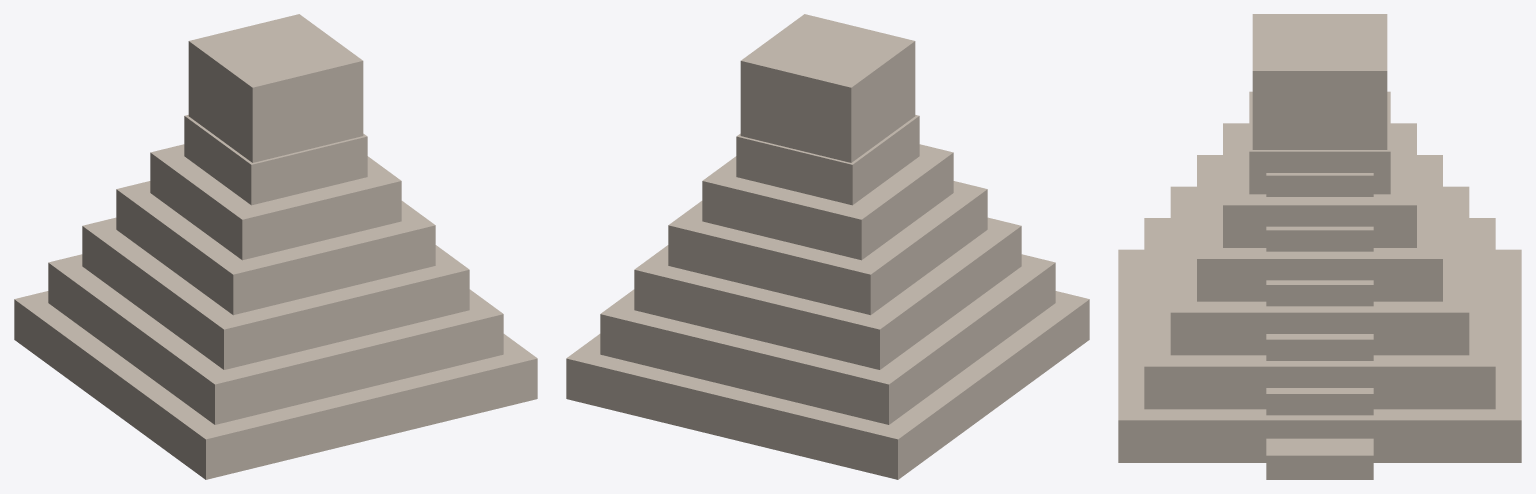
File: mesoamerican_s4.glb
3 renders of one model, left to right at view 1: azimuth 30°, elevation 25°; view 2: azimuth 150°, elevation 25°; view 3: azimuth 270°, elevation 25°, orthographic. The views are drawn at different scales.
Parts seen in each view (by area): view 1: Cube, Cube.001, Cube.002, Cube.006, Cube.003, Cube.004, Cube.005; view 2: Cube, Cube.001, Cube.002, Cube.006, Cube.003, Cube.004, Cube.005; view 3: Cube, Cube.001, Cube.002, Cube.006, Cube.003, Cube.004, Cube.007, Cube.005, Cube.009, Cube.010, Cube.011, Cube.012 (+1 smaller).
Part boxes in pixels (box(x1,y1,x2,y2)): Cube: box(14, 291, 537, 479); Cube.001: box(48, 254, 503, 424); Cube.002: box(82, 217, 469, 369); Cube.006: box(188, 14, 363, 162); Cube.003: box(116, 181, 435, 315); Cube.004: box(150, 144, 401, 260); Cube.005: box(184, 115, 367, 205); Cube: box(566, 291, 1089, 479); Cube.001: box(600, 254, 1055, 424); Cube.002: box(634, 217, 1021, 369); Cube.006: box(740, 14, 915, 162); Cube.003: box(668, 181, 987, 315); Cube.004: box(702, 144, 953, 260); Cube.005: box(736, 115, 919, 205); Cube: box(1118, 249, 1521, 462); Cube.001: box(1144, 218, 1495, 409); Cube.002: box(1170, 186, 1469, 355); Cube.006: box(1252, 14, 1387, 149); Cube.003: box(1197, 155, 1442, 301); Cube.004: box(1223, 123, 1416, 247); Cube.007: box(1266, 438, 1373, 479); Cube.005: box(1249, 91, 1390, 194); Cube.009: box(1266, 388, 1373, 415); Cube.010: box(1266, 334, 1373, 360); Cube.011: box(1266, 280, 1373, 306); Cube.012: box(1266, 226, 1373, 251).
Size of the model in its own units: 6.6 by 5.5 by 6.
